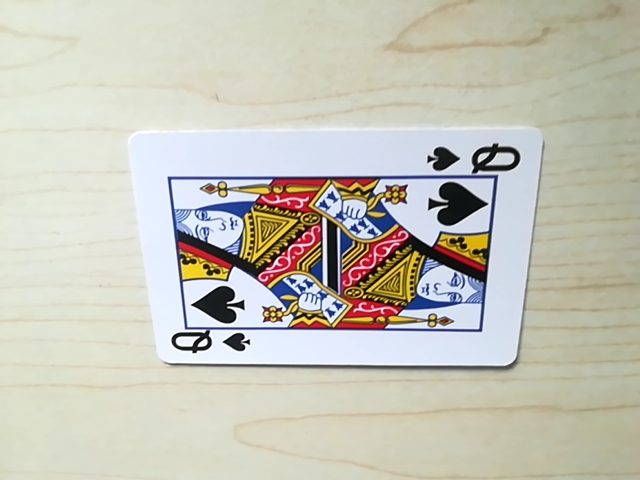ht q: (426, 138, 522, 176), (166, 328, 247, 362)
